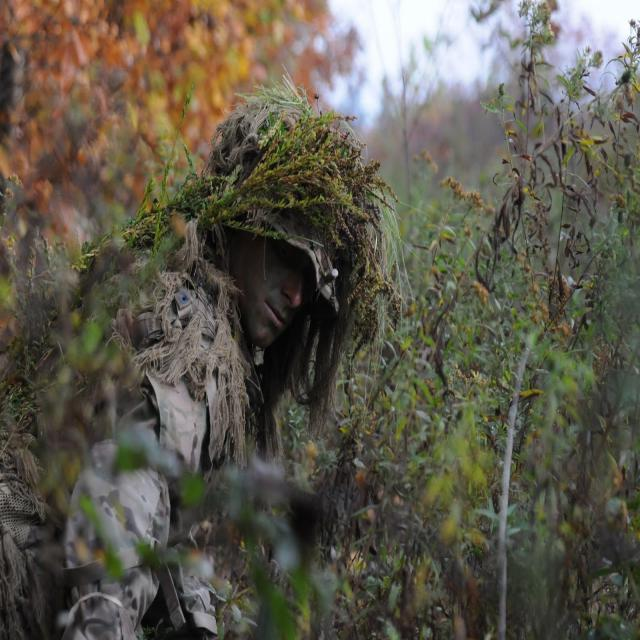Human: (53, 83, 395, 615)
